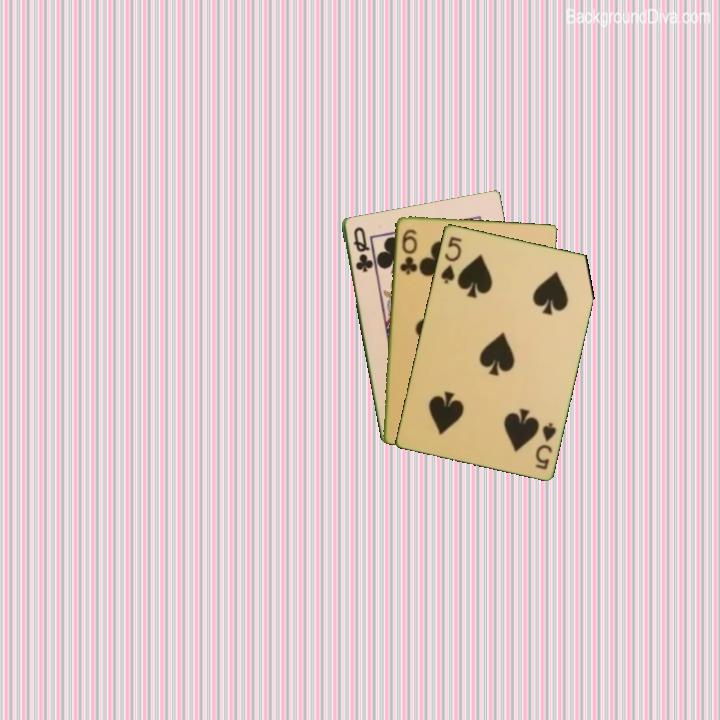5s: (531, 419, 559, 472), (437, 233, 464, 286)
6c: (396, 226, 420, 277)
Qc: (349, 223, 375, 275)
